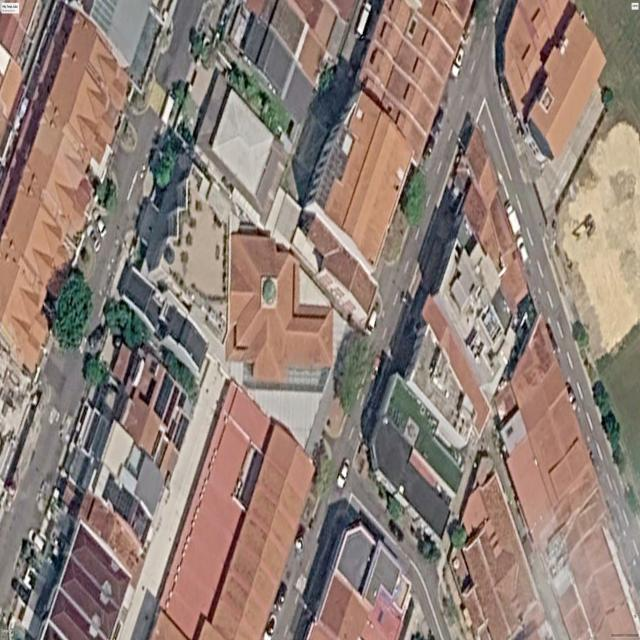Home: (0, 7, 128, 371), (210, 425, 314, 640), (508, 318, 597, 549), (311, 91, 412, 267), (361, 0, 472, 160), (196, 71, 287, 226), (461, 472, 544, 640), (553, 502, 637, 640), (529, 13, 606, 159), (369, 422, 450, 539), (504, 0, 569, 115)
mosque: (225, 232, 334, 383)
